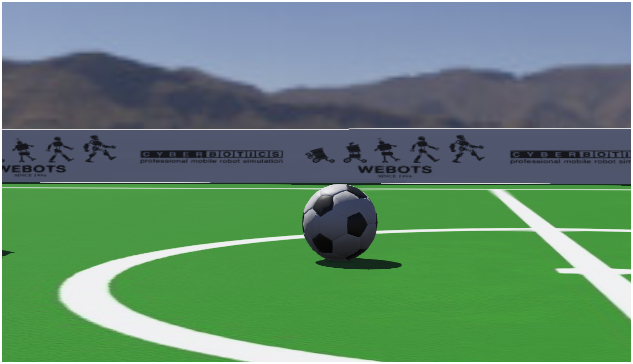Ball: (266, 168, 426, 283)
